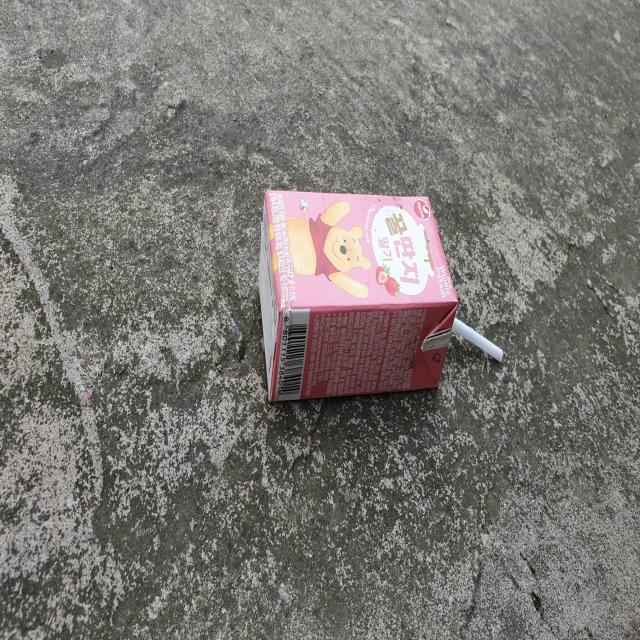paperpack: (259, 187, 458, 401)
